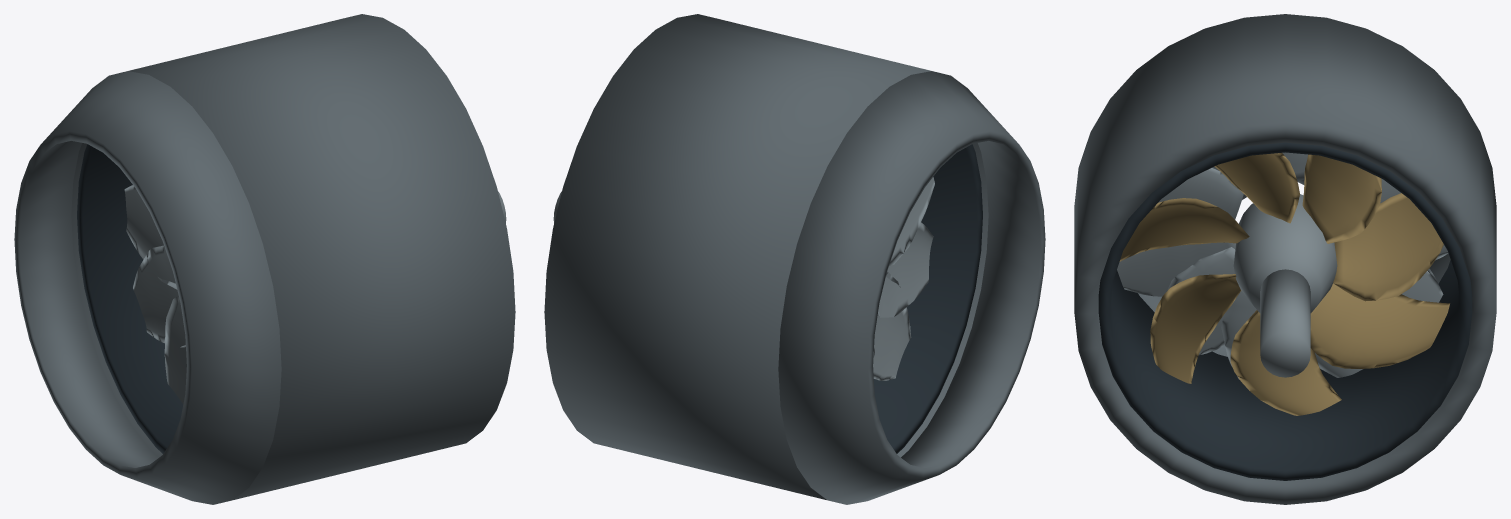
Rendered from US_PJ_Virginia_LOD0.fbx.
3 views of the same model, side by side, from view 1: azimuth 30°, elevation 25°; view 2: azimuth 150°, elevation 25°; view 3: azimuth 270°, elevation 25° (orthographic). The views are drawn at different scales.
Visible parts, largest first — view 1: US_PJ_Virginia_LOD0_Housing.001, US_PJ_Virginia_LOD0_Nozzle.001, US_PJ_Virginia_LOD0_Lining.001, US_PJ_Virginia_LOD0_Stator_10.001, US_PJ_Virginia_LOD0_Stator_09.001, US_PJ_Virginia_LOD0_Stator_00.001; view 2: US_PJ_Virginia_LOD0_Housing.001, US_PJ_Virginia_LOD0_Nozzle.001, US_PJ_Virginia_LOD0_Lining.001, US_PJ_Virginia_LOD0_Stator_06.001, US_PJ_Virginia_LOD0_Stator_07.001, US_PJ_Virginia_LOD0_Stator_05.001; view 3: US_PJ_Virginia_LOD0_Housing.001, US_PJ_Virginia_LOD0_Lining.001, US_PJ_Virginia_LOD0_Rotor_06.001, US_PJ_Virginia_LOD0_Rotor_00.001, US_PJ_Virginia_LOD0_Hub.001, US_PJ_Virginia_LOD0_Rotor_04.001, US_PJ_Virginia_LOD0_Rotor_01.001, US_PJ_Virginia_LOD0_Shaft.001, US_PJ_Virginia_LOD0_Rotor_05.001, US_PJ_Virginia_LOD0_Rotor_03.001, US_PJ_Virginia_LOD0_Rotor_02.001, US_PJ_Virginia_LOD0_Stator_06.001 (+5 smaller).
Boxes of the visible parts, left/top/right/bottom form: US_PJ_Virginia_LOD0_Housing.001: left=71, top=14, right=515, bottom=499; US_PJ_Virginia_LOD0_Nozzle.001: left=14, top=71, right=281, bottom=504; US_PJ_Virginia_LOD0_Lining.001: left=77, top=144, right=183, bottom=453; US_PJ_Virginia_LOD0_Stator_10.001: left=133, top=245, right=185, bottom=347; US_PJ_Virginia_LOD0_Stator_09.001: left=164, top=296, right=186, bottom=403; US_PJ_Virginia_LOD0_Stator_00.001: left=124, top=185, right=177, bottom=289; US_PJ_Virginia_LOD0_Housing.001: left=544, top=14, right=988, bottom=499; US_PJ_Virginia_LOD0_Nozzle.001: left=778, top=71, right=1045, bottom=504; US_PJ_Virginia_LOD0_Lining.001: left=874, top=144, right=982, bottom=453; US_PJ_Virginia_LOD0_Stator_06.001: left=877, top=222, right=933, bottom=317; US_PJ_Virginia_LOD0_Stator_07.001: left=873, top=271, right=911, bottom=380; US_PJ_Virginia_LOD0_Stator_05.001: left=889, top=177, right=934, bottom=266; US_PJ_Virginia_LOD0_Housing.001: left=1074, top=14, right=1496, bottom=504; US_PJ_Virginia_LOD0_Lining.001: left=1098, top=142, right=1472, bottom=480; US_PJ_Virginia_LOD0_Rotor_06.001: left=1310, top=283, right=1450, bottom=368; US_PJ_Virginia_LOD0_Rotor_00.001: left=1333, top=193, right=1443, bottom=301; US_PJ_Virginia_LOD0_Hub.001: left=1233, top=194, right=1337, bottom=312; US_PJ_Virginia_LOD0_Rotor_04.001: left=1150, top=274, right=1241, bottom=383; US_PJ_Virginia_LOD0_Rotor_01.001: left=1302, top=154, right=1381, bottom=243; US_PJ_Virginia_LOD0_Shaft.001: left=1260, top=269, right=1310, bottom=377; US_PJ_Virginia_LOD0_Rotor_05.001: left=1230, top=310, right=1341, bottom=415; US_PJ_Virginia_LOD0_Rotor_03.001: left=1119, top=198, right=1249, bottom=261; US_PJ_Virginia_LOD0_Rotor_02.001: left=1214, top=153, right=1299, bottom=223; US_PJ_Virginia_LOD0_Stator_06.001: left=1117, top=242, right=1235, bottom=296.
Bounding box in the file's own units: 578 × 570 × 570.
